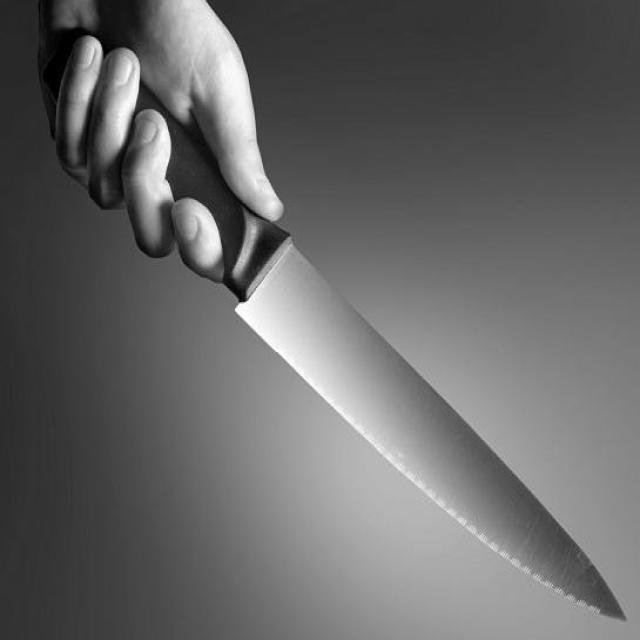knife: (220, 175, 633, 630)
